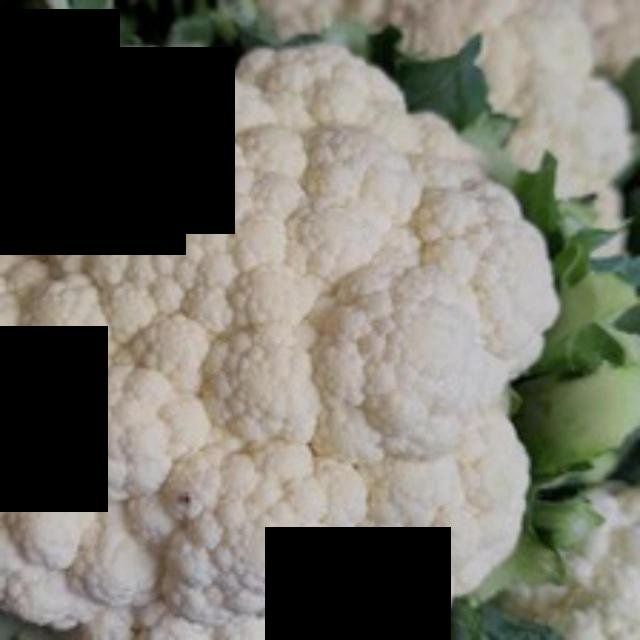cauliflower: (0, 31, 560, 637)
